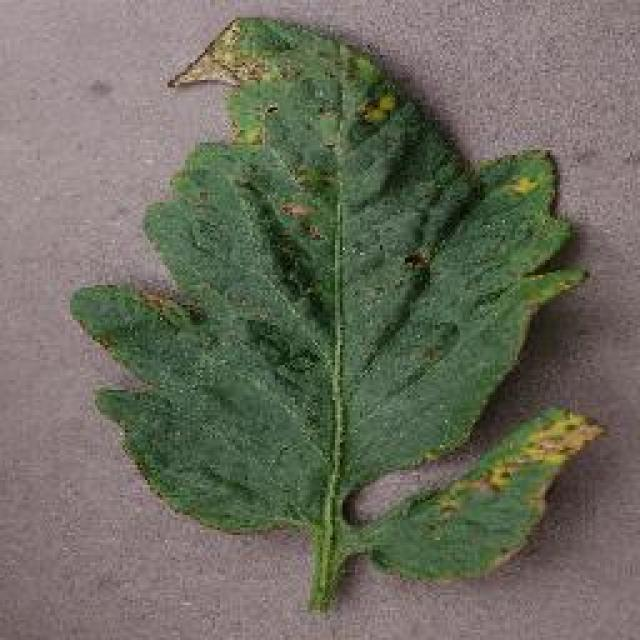bacterial spot: (72, 12, 609, 610)
